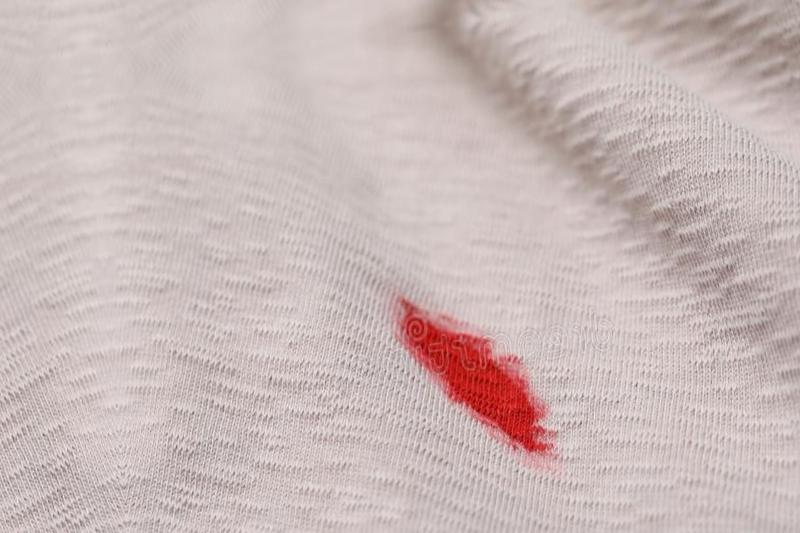stain: (387, 288, 567, 465)
